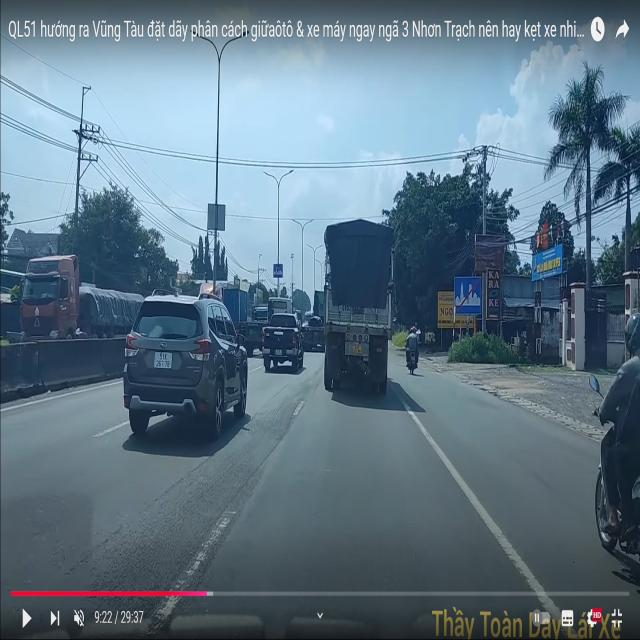Bien hieu lenh het khu dong dan cu: (454, 274, 483, 317)
